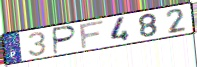2: (165, 8, 188, 35)
3: (25, 31, 48, 58)
4: (108, 15, 134, 44)
8: (137, 12, 160, 39)
F: (78, 18, 106, 50)
P: (52, 24, 79, 56)
